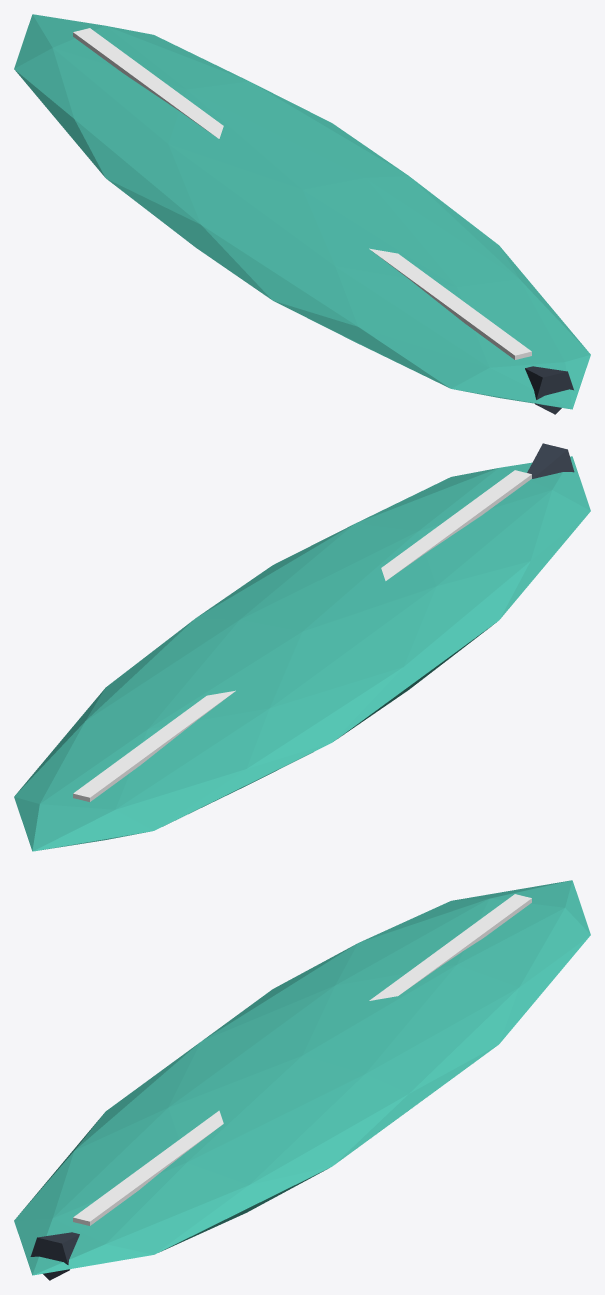
Rendered from Surfing_SurfboardBlue.fbx.
3 views of the same model, one above another, from view 1: azimuth 30°, elevation 25°; view 2: azimuth 150°, elevation 25°; view 3: azimuth 330°, elevation 25° (orthographic).
Parts seen in each view (by area): view 1: SurfboardBlue; view 2: SurfboardBlue; view 3: SurfboardBlue.
Boxes of the visible parts, box(x1,y1,x2,y2) form: SurfboardBlue: box(14, 14, 590, 414); SurfboardBlue: box(14, 443, 590, 851); SurfboardBlue: box(14, 880, 590, 1280).
Bounding box in the file's own units: 0.5326 × 0.1005 × 2.2.
